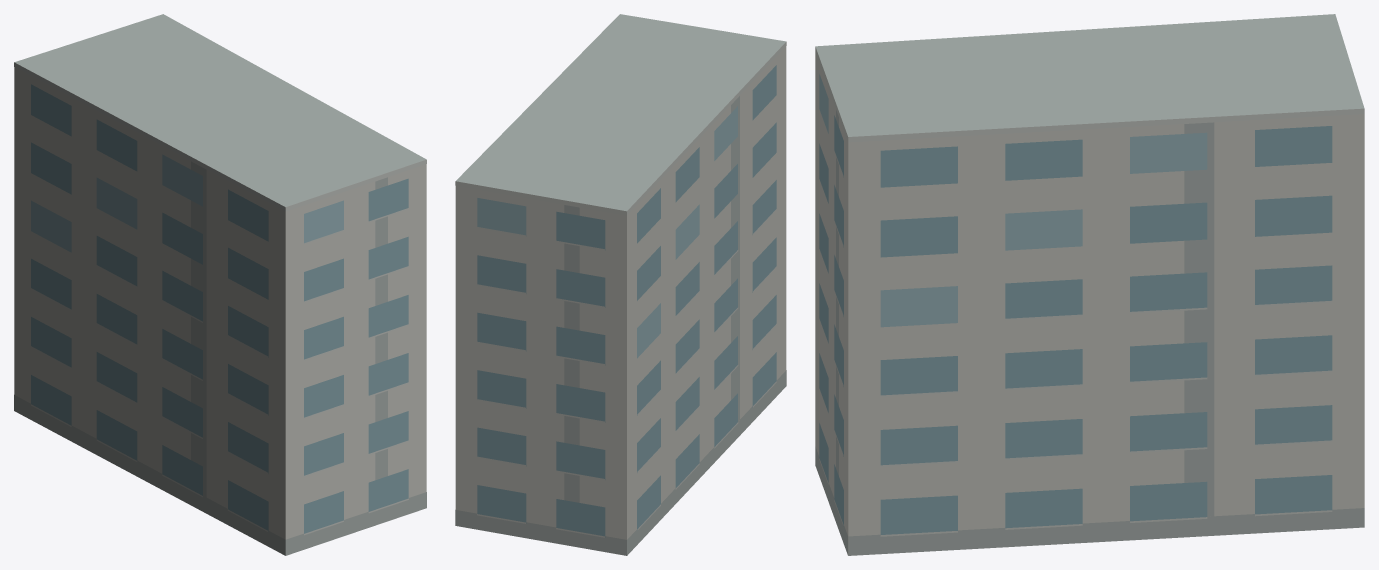
File: survey-upis-32977909.glb
3 views of the same model, side by side, from view 1: azimuth 30°, elevation 25°; view 2: azimuth 150°, elevation 25°; view 3: azimuth 270°, elevation 25° (orthographic). The views are drawn at different scales.
Parts seen in each view (by area): view 1: survey-upis-32977909.tmp; view 2: survey-upis-32977909.tmp; view 3: survey-upis-32977909.tmp.
Boxes of the visible parts, box(x1,y1,x2,y2) form: survey-upis-32977909.tmp: box(14, 14, 426, 555); survey-upis-32977909.tmp: box(455, 14, 786, 555); survey-upis-32977909.tmp: box(815, 14, 1364, 555).
Bounding box in the file's own units: 11.54 × 18.3 × 21.76.
